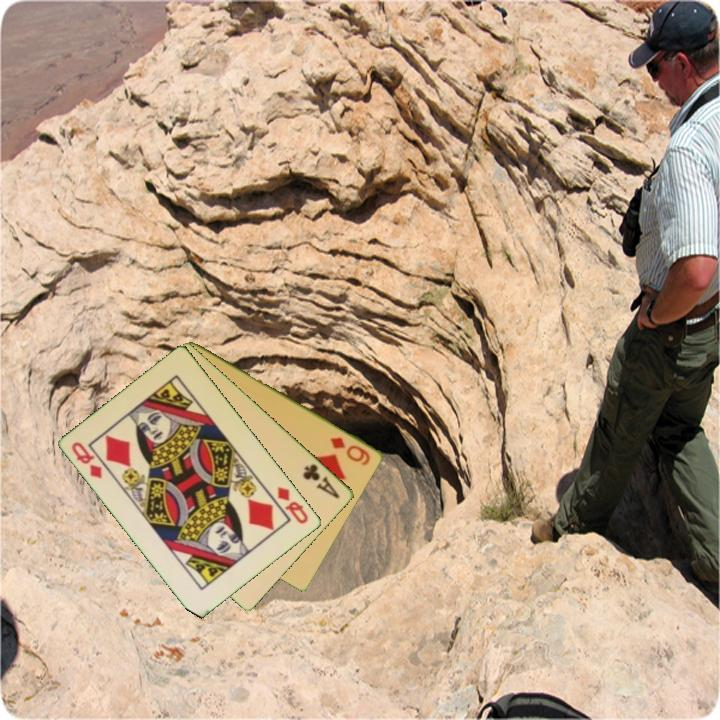6d: (327, 433, 374, 468)
Ac: (299, 460, 343, 502)
Qd: (274, 482, 312, 527), (68, 438, 106, 482)
